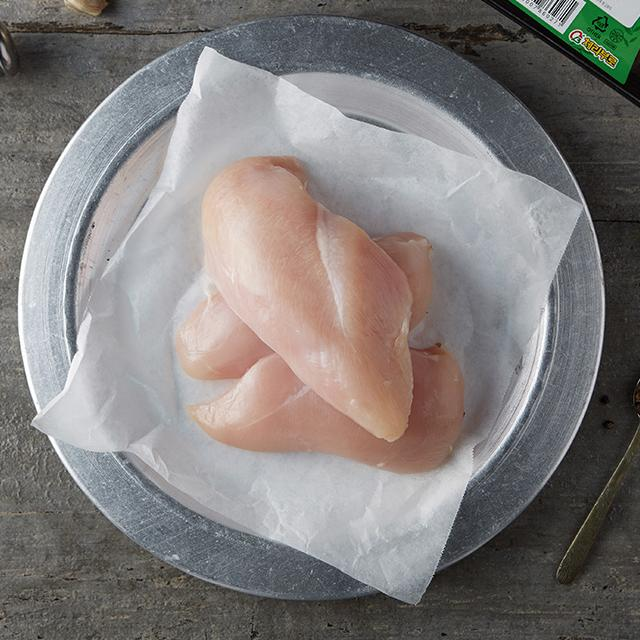chicken: (198, 152, 417, 443), (186, 342, 468, 475)
